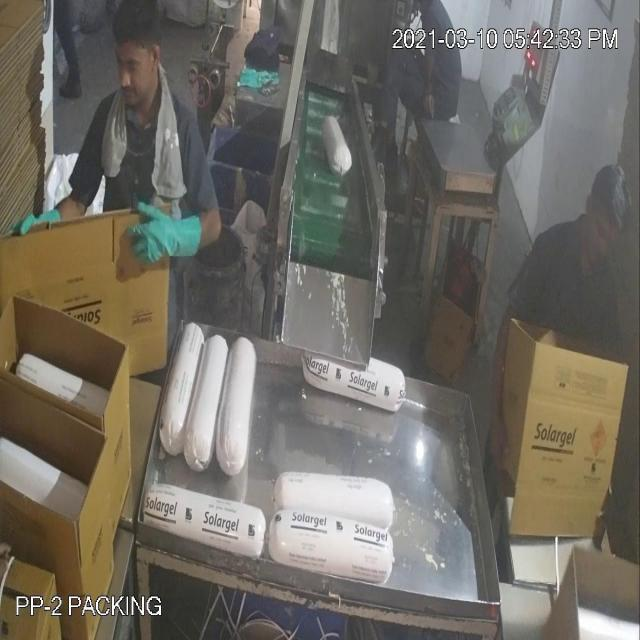Gloves: (42, 100, 503, 374)
